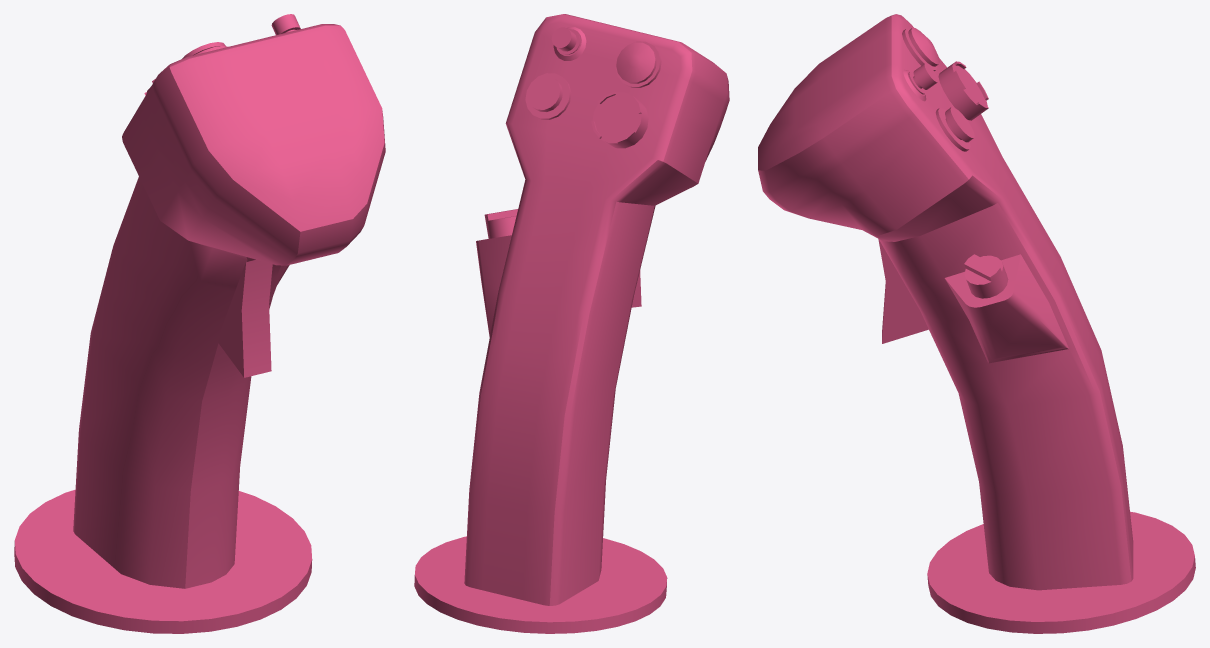
Rendered from Handle.fbx.
The picture shows the model from 3 angles, left to right: view 1: azimuth 30°, elevation 25°; view 2: azimuth 150°, elevation 25°; view 3: azimuth 270°, elevation 25°; orthographic projection. The views are drawn at different scales.
Visible parts, largest first — view 1: Handle; view 2: Handle; view 3: Handle.
Boxes of the visible parts, bbox=[...] form: Handle: bbox=[14, 14, 385, 633]; Handle: bbox=[414, 14, 729, 633]; Handle: bbox=[758, 14, 1195, 633].
Bounding box in the file's own units: 5.39 × 12.61 × 8.79.
